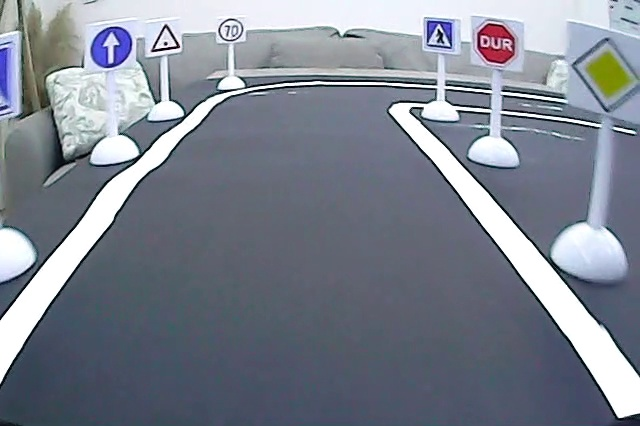green light: (148, 22, 183, 54)
pedestrian crossing: (421, 18, 457, 50)
speed limit 70: (218, 17, 246, 42)
stop sign: (470, 18, 520, 66)
